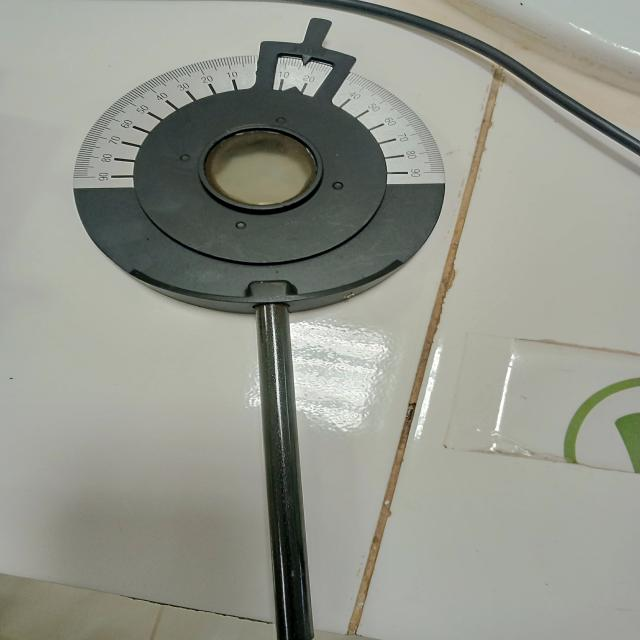Optical Polarizer: (56, 19, 468, 640)
